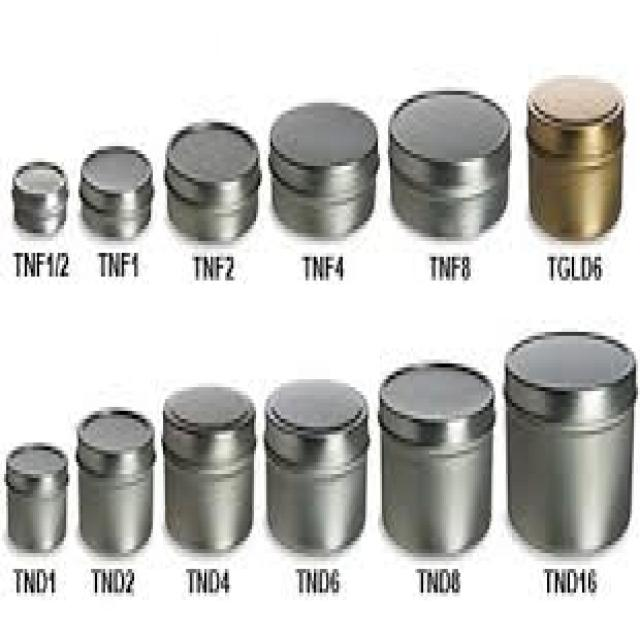Dry Waste: (13, 377, 631, 545), (12, 114, 614, 240)
